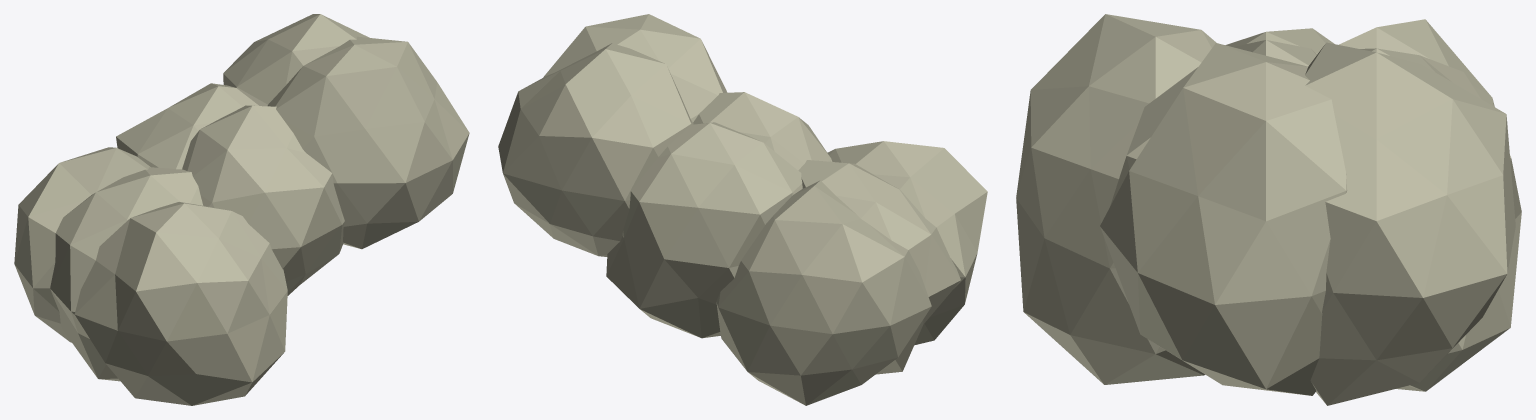
The model's file is a4_rock.glb.
3 renders of one model, left to right at view 1: azimuth 30°, elevation 25°; view 2: azimuth 150°, elevation 25°; view 3: azimuth 270°, elevation 25°, orthographic. The views are drawn at different scales.
Parts seen in each view (by area): view 1: Body.040; view 2: Body.040; view 3: Body.040.
Part boxes in pixels (x1,y1,x2,y2): Body.040: (14,14,469,405); Body.040: (498,14,987,405); Body.040: (1016,14,1521,405).
Bounding box in the file's own units: 2.05 × 1.44 × 1.37.
